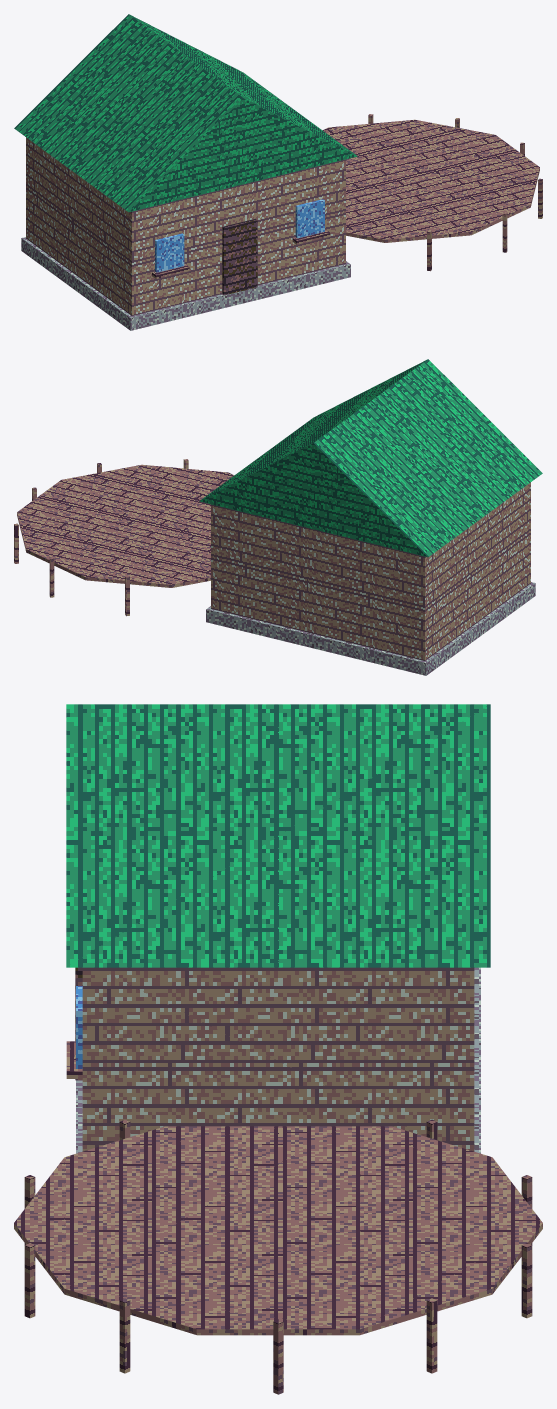
File: rancho_zed.glb
3 views of the same model, one above another, from view 1: azimuth 30°, elevation 25°; view 2: azimuth 150°, elevation 25°; view 3: azimuth 270°, elevation 25° (orthographic). The views are drawn at different scales.
Parts seen in each view (by area): view 1: rancho_zed; view 2: rancho_zed; view 3: rancho_zed.
Boxes of the visible parts, <box> form: rancho_zed: <box>14,14,542,330</box>; rancho_zed: <box>14,359,542,675</box>; rancho_zed: <box>14,704,542,1394</box>.
Bounding box in the file's own units: 14.83 × 6.5 × 8.1.
Materials: 6 (6 with a texture image).
